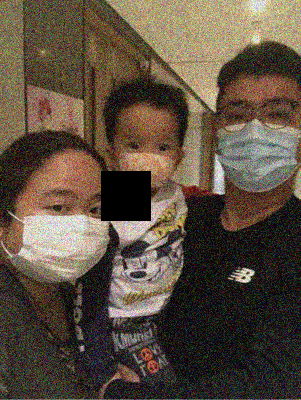with_mask: (5, 185, 110, 287), (215, 94, 301, 195), (115, 130, 180, 192)
